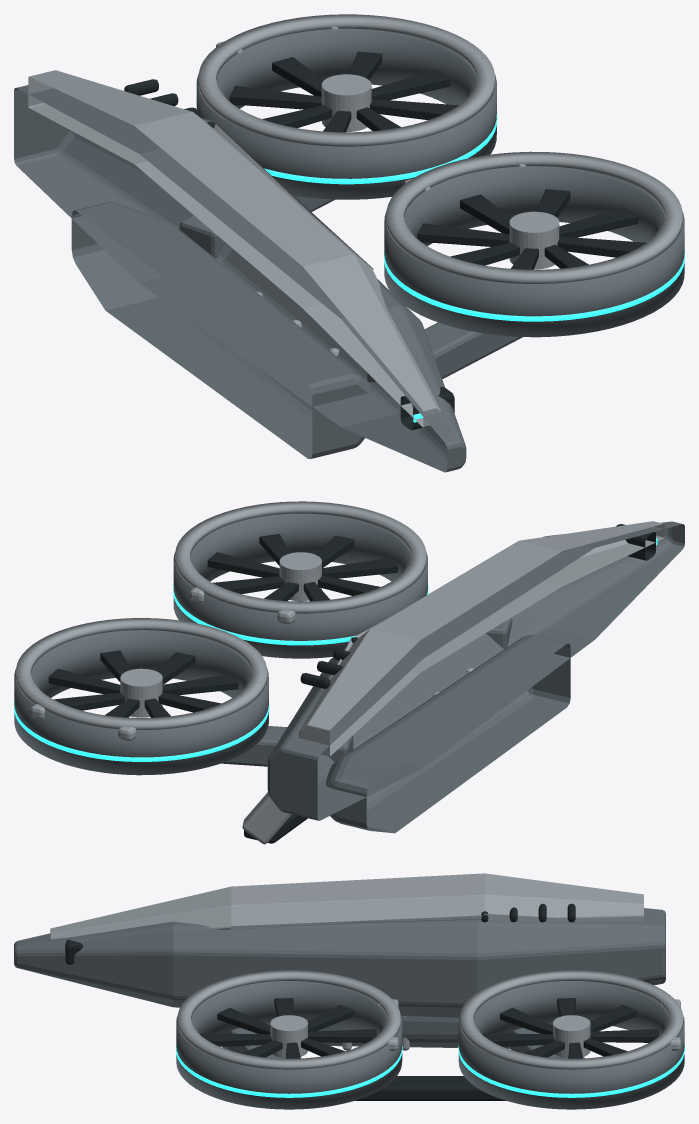
Rendered from cargo-proposal.glb.
3 views of the same model, one above another, from view 1: azimuth 30°, elevation 25°; view 2: azimuth 150°, elevation 25°; view 3: azimuth 270°, elevation 25° (orthographic). The views are drawn at different scales.
Parts seen in each view (by area): view 1: Keel, Cargo_Bay, Dorsal_Shell, Duct_0, Duct_1, Duct_Lip_1, Duct_Lip_0, Load_Boom_0, Rotor_Hub_0, Rotor_Hub_1, Duct_Link_0, Blade_0_3 (+11 smaller); view 2: Keel, Cargo_Bay, Duct_1, Dorsal_Shell, Duct_0, Duct_Lip_0, Duct_Lip_1, Rotor_Hub_1, Rotor_Hub_0, Duct_Link_1, Landing_Strut.001, Load_Boom_1 (+14 smaller); view 3: Keel, Dorsal_Shell, Duct_0, Duct_1, Duct_Lip_0, Duct_Lip_1, Skid, Cargo_Bay, Rotor_Hub_1, Rotor_Hub_0, Duct_Link_0, Duct_Link_1 (+12 smaller).
Part boxes in pixels (<box>): Keel: <box>14,85,466,472</box>; Cargo_Bay: <box>71,202,372,458</box>; Dorsal_Shell: <box>28,70,440,427</box>; Duct_0: <box>384,166,684,337</box>; Duct_1: <box>196,28,496,199</box>; Duct_Lip_1: <box>198,14,494,146</box>; Duct_Lip_0: <box>386,151,682,283</box>; Load_Boom_0: <box>367,322,522,382</box>; Rotor_Hub_0: <box>509,211,559,269</box>; Rotor_Hub_1: <box>321,74,371,131</box>; Duct_Link_0: <box>384,250,684,321</box>; Blade_0_3: <box>417,223,509,246</box>; Keel: <box>267,521,684,820</box>; Cargo_Bay: <box>325,635,570,833</box>; Duct_1: <box>14,630,268,775</box>; Dorsal_Shell: <box>299,521,664,756</box>; Duct_0: <box>173,513,427,658</box>; Duct_Lip_0: <box>175,501,426,613</box>; Duct_Lip_1: <box>16,618,267,729</box>; Rotor_Hub_1: <box>120,668,162,717</box>; Rotor_Hub_0: <box>279,552,321,601</box>; Duct_Link_1: <box>14,701,269,761</box>; Landing_Strut.001: <box>242,792,291,844</box>; Load_Boom_1: <box>221,726,353,766</box>; Keel: <box>14,908,665,1017</box>; Dorsal_Shell: <box>50,873,643,939</box>; Duct_0: <box>176,981,402,1109</box>; Duct_1: <box>458,981,684,1109</box>; Duct_Lip_0: <box>177,970,400,1069</box>; Duct_Lip_1: <box>460,970,683,1069</box>; Skid: <box>354,1076,506,1100</box>; Cargo_Bay: <box>265,1016,548,1048</box>; Rotor_Hub_1: <box>553,1015,590,1058</box>; Rotor_Hub_0: <box>270,1015,307,1058</box>; Duct_Link_0: <box>176,1044,402,1097</box>; Duct_Link_1: <box>458,1045,684,1097</box>.
Size of the model in its own units: 2.4 by 1.31 by 4.63.
